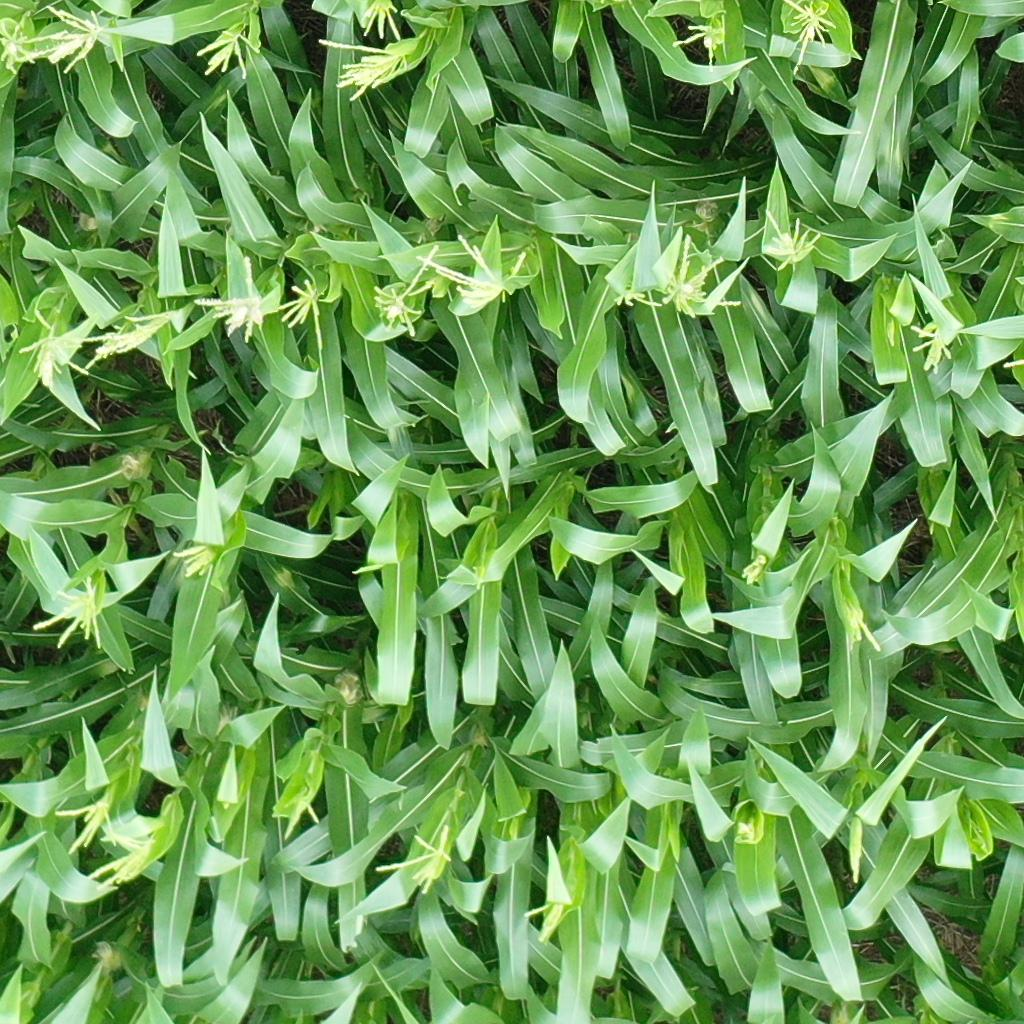Tassel: (415, 235, 533, 308), (658, 233, 744, 317), (194, 249, 268, 345), (73, 305, 178, 371), (371, 236, 438, 338), (316, 35, 407, 102), (29, 576, 107, 652), (16, 306, 98, 378), (370, 823, 452, 894), (45, 4, 118, 74), (47, 797, 122, 855), (782, 1, 839, 75), (761, 208, 824, 273), (274, 278, 327, 353), (89, 833, 155, 891), (195, 27, 265, 76), (1, 17, 57, 73), (907, 316, 957, 373), (671, 18, 724, 63), (517, 901, 570, 945), (280, 797, 325, 845), (845, 600, 884, 654), (358, 1, 410, 41), (167, 544, 221, 578), (614, 281, 662, 311), (741, 552, 770, 587), (735, 817, 758, 845)
